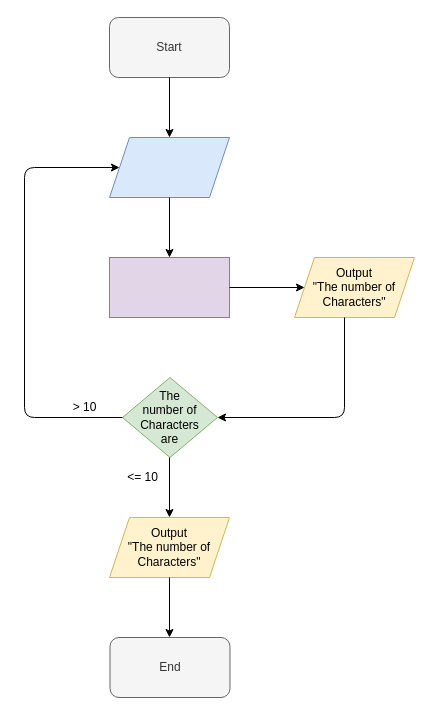
Image size: 432x715. Some labels were removed from this diagram. The shapes that lost their labels are listed below. From the top down, each one's centre as x and y in pixels, then its label:
[169,167]: Input "A word"
[169,287]: Count The number of Characters In the word
